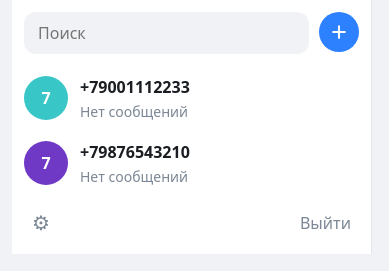
Sidebar › фильтрует чаты поиском
The width and height of the screenshot is (389, 271).
Type "9001" into the field with placeholder "Поиск". click: (166, 33)
box: [24,12,309,54]
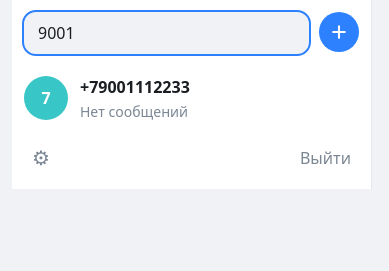
Expected: the text "+79001112233" is shown, [80,76,190,98]
Now the button "+79876543210" is gone
